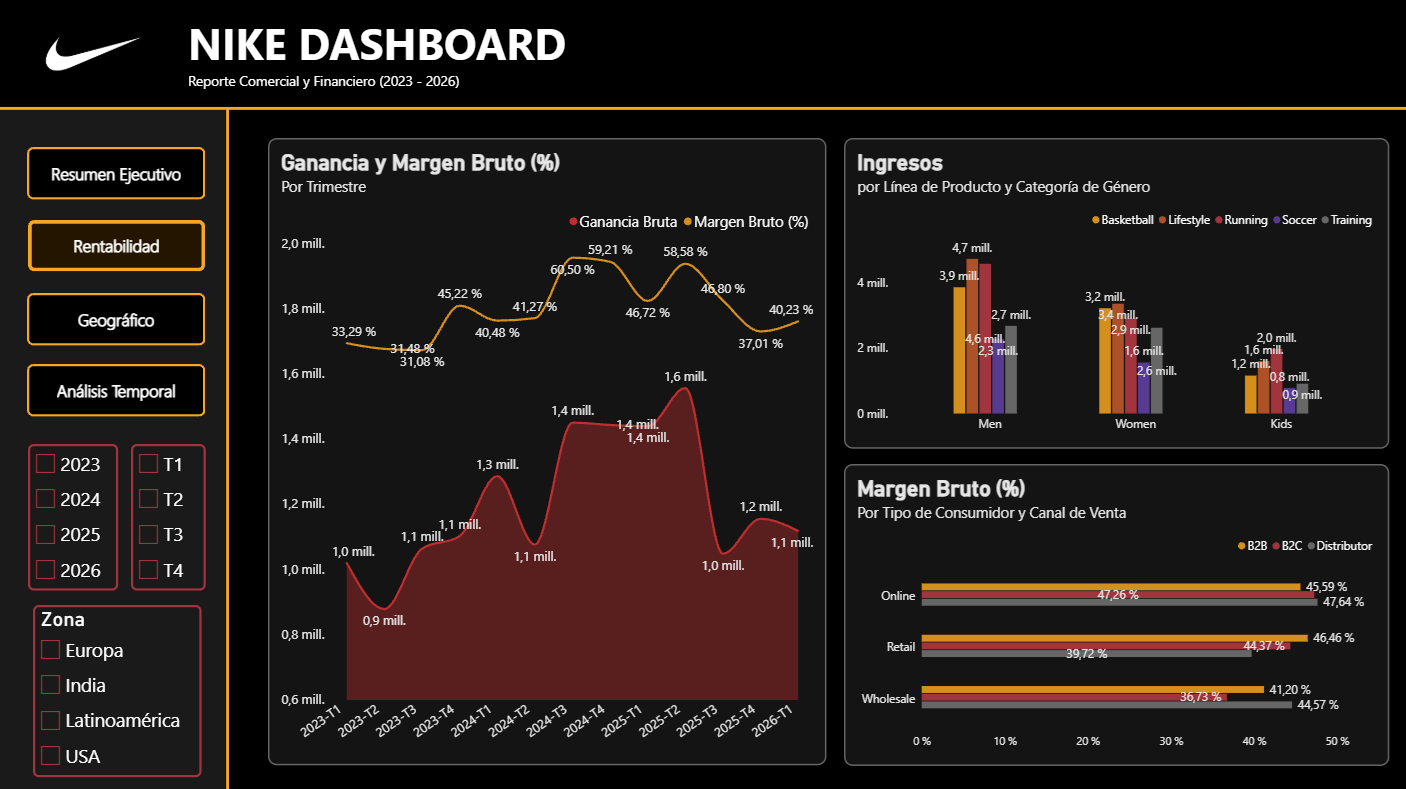

What the dashboard file says about the page in this screenshot:
{"tool":"powerbi","page":{"name":"Rentabilidad","canvas":[1920,1080],"ordinal":1},"visuals":[{"type":"shape","box":[0,0,1920,150],"z":0},{"type":"shape","box":[0,143,1920,12],"z":1000},{"type":"image","box":[0,11.7,256.7,125],"z":2000},{"type":"textbox","box":[256.7,20,641.7,108.3],"z":3000},{"type":"shape","box":[0,152,308,928],"z":4000},{"type":"shape","box":[303.8,147.5,12.5,931.2],"z":5000},{"type":"clusteredBarChart","title":"Margen Bruto (%)","fields":{"Category":["Dim_Cliente.Sales_Channel"],"Series":["Dim_Cliente.Customer_Type"],"Y":["Medidas.Ganancia_bruta"]},"box":[1152,634,744,412],"z":6000},{"type":"lineChart","title":"Ganancia y Margen Bruto (%)","fields":{"Category":["Dim_Tiempo.AñoTrimestre"],"Y":["Medidas.Ganancia_Total"],"Y2":["Medidas.Ganancia_bruta"]},"box":[366,190,762,856],"z":7000},{"type":"clusteredColumnChart","title":"Ingresos","fields":{"Category":["Dim_Producto.Gender_Category"],"Series":["Dim_Producto.Product_Line"],"Y":["Medidas.Ingresos_Totales"]},"box":[1152,190,744,424],"z":8000},{"type":"shape","box":[36.7,201.7,243.3,71.7],"z":9000},{"type":"shape","box":[38.3,301.7,241.7,70],"z":10000},{"type":"shape","box":[36.7,401.7,243.3,71.7],"z":11000},{"type":"shape","box":[36.7,498.3,243.3,71.7],"z":12000},{"type":"slicer","fields":{"Values":["Dim_Tiempo.Fecha.Variación.Jerarquía de fechas.Año"]},"box":[38.3,606.7,123.3,200],"z":13000},{"type":"slicer","fields":{"Values":["Dim_Tiempo.Trimestre"]},"box":[178.3,606.7,101.7,200],"z":14000},{"type":"slicer","fields":{"Values":["Dim_Ubicación.Zone"]},"box":[45,826.7,230,235],"z":15000}]}

Visuals, with their boxes in screenshot pixels (x1, y1, x2, y2), scaled from the page's 1920x1080 canvas onto the 1406x789 screenshot:
shape: (left=0, top=0, right=1405, bottom=110)
shape: (left=0, top=104, right=1405, bottom=113)
image: (left=0, top=9, right=188, bottom=100)
textbox: (left=188, top=15, right=658, bottom=94)
shape: (left=0, top=111, right=226, bottom=788)
shape: (left=222, top=108, right=232, bottom=788)
"Margen Bruto (%)" clusteredBarChart: (left=844, top=463, right=1388, bottom=764)
"Ganancia y Margen Bruto (%)" lineChart: (left=268, top=139, right=826, bottom=764)
"Ingresos" clusteredColumnChart: (left=844, top=139, right=1388, bottom=449)
shape: (left=27, top=147, right=205, bottom=200)
shape: (left=28, top=220, right=205, bottom=272)
shape: (left=27, top=293, right=205, bottom=346)
shape: (left=27, top=364, right=205, bottom=416)
slicer - Dim_Tiempo.Fecha.Variación.Jerarquía de fechas.Año: (left=28, top=443, right=118, bottom=589)
slicer - Dim_Tiempo.Trimestre: (left=131, top=443, right=205, bottom=589)
slicer - Dim_Ubicación.Zone: (left=33, top=604, right=201, bottom=776)
